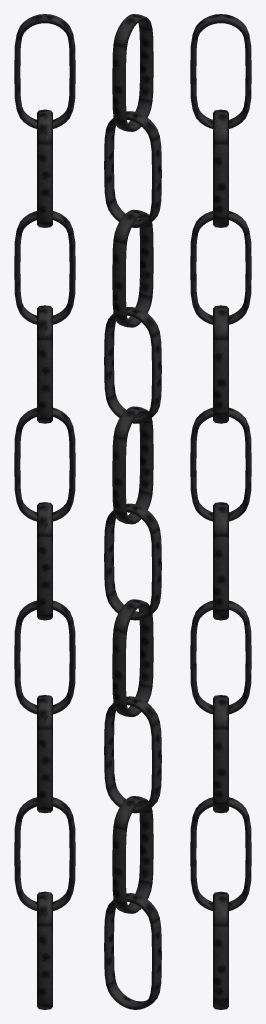
Rendered from chain.obj.
The picture shows the model from 3 angles, left to right: view 1: azimuth 90°, elevation 25°; view 2: azimuth 150°, elevation 25°; view 3: azimuth 270°, elevation 25°; orthographic projection.
Visible parts, largest first — view 1: chain1; view 2: chain1; view 3: chain1.
Part boxes in pixels (x1=…): chain1: x1=14, y1=14, x2=75, y2=1009; chain1: x1=104, y1=14, x2=161, y2=1009; chain1: x1=190, y1=14, x2=251, y2=1009.
Size of the model in its own units: 0.4905 by 8.72 by 0.4905.
1 material, 1 textured.
